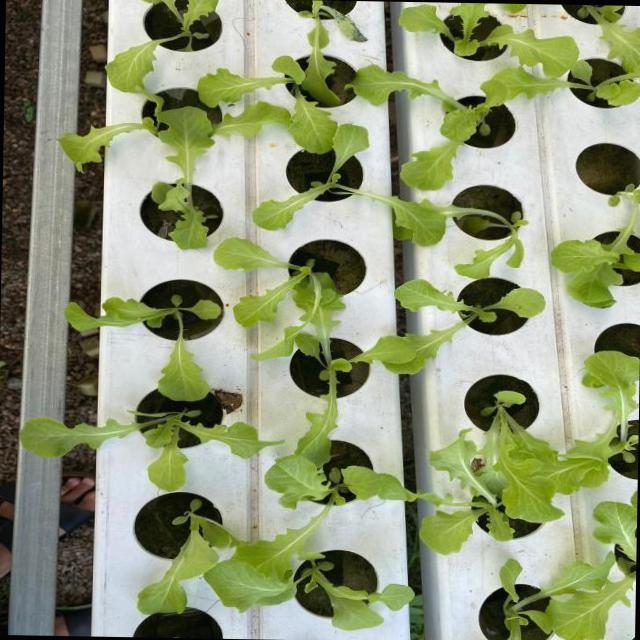Lettuce-Not-Ready-to-Harvest: (265, 271, 411, 540), (353, 65, 565, 190), (253, 123, 447, 245), (20, 414, 274, 490), (482, 391, 616, 522), (65, 295, 221, 400), (232, 453, 348, 579), (395, 279, 544, 374), (399, 2, 578, 77), (199, 56, 337, 152), (550, 494, 636, 640), (419, 431, 513, 554), (551, 185, 640, 307), (106, 0, 217, 92), (499, 555, 615, 640), (151, 106, 214, 248), (214, 237, 310, 326), (300, 566, 413, 629), (300, 0, 366, 106), (447, 206, 527, 278), (163, 512, 240, 582), (203, 556, 297, 611), (572, 4, 640, 72), (571, 60, 640, 106), (137, 587, 185, 613)
